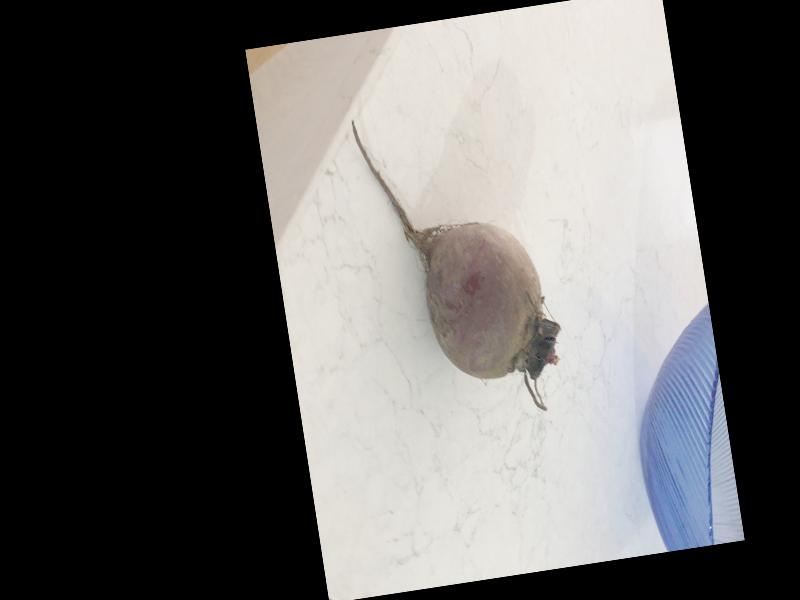Beet: (350, 95, 571, 431)
